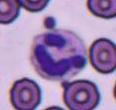N: (29, 29, 86, 79)
